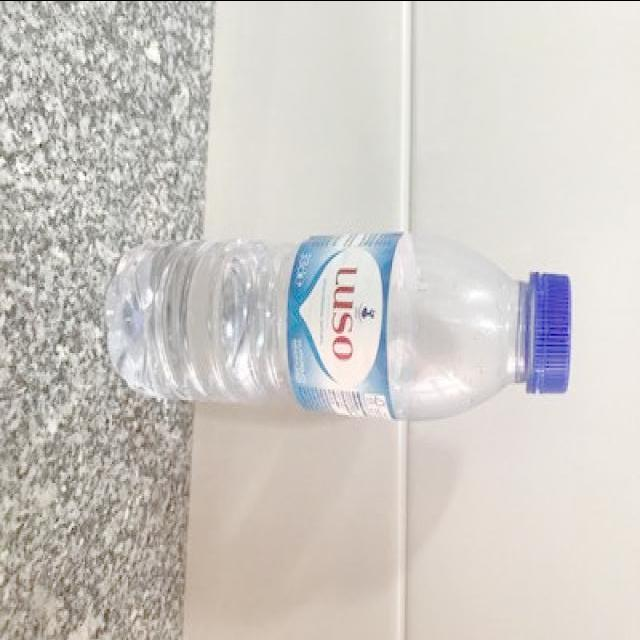cap: (531, 268, 578, 400)
label: (296, 227, 395, 418)
not-crumbled: (102, 232, 585, 418)
